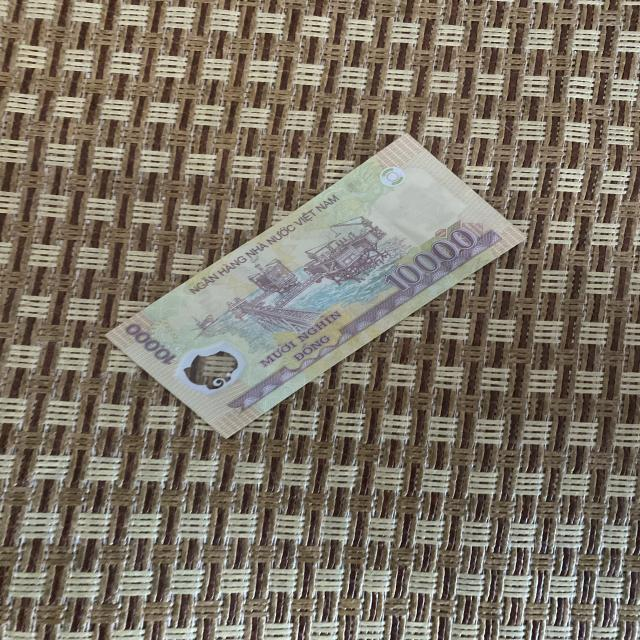10 000 VND: (104, 132, 530, 440)
